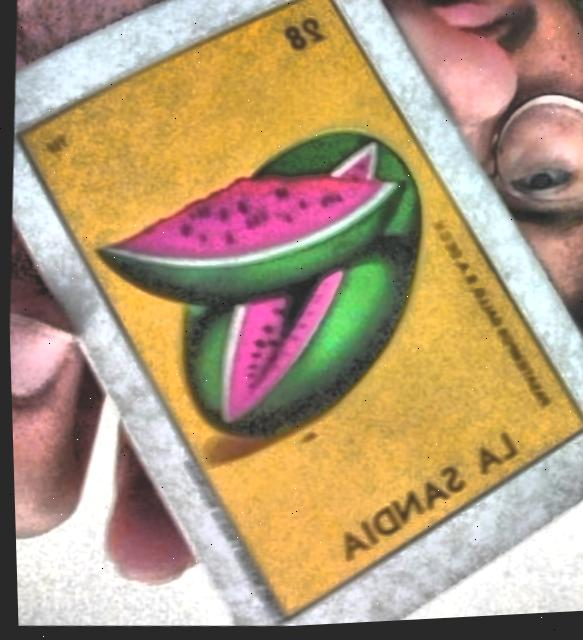La Sandia: (21, 0, 583, 618)
